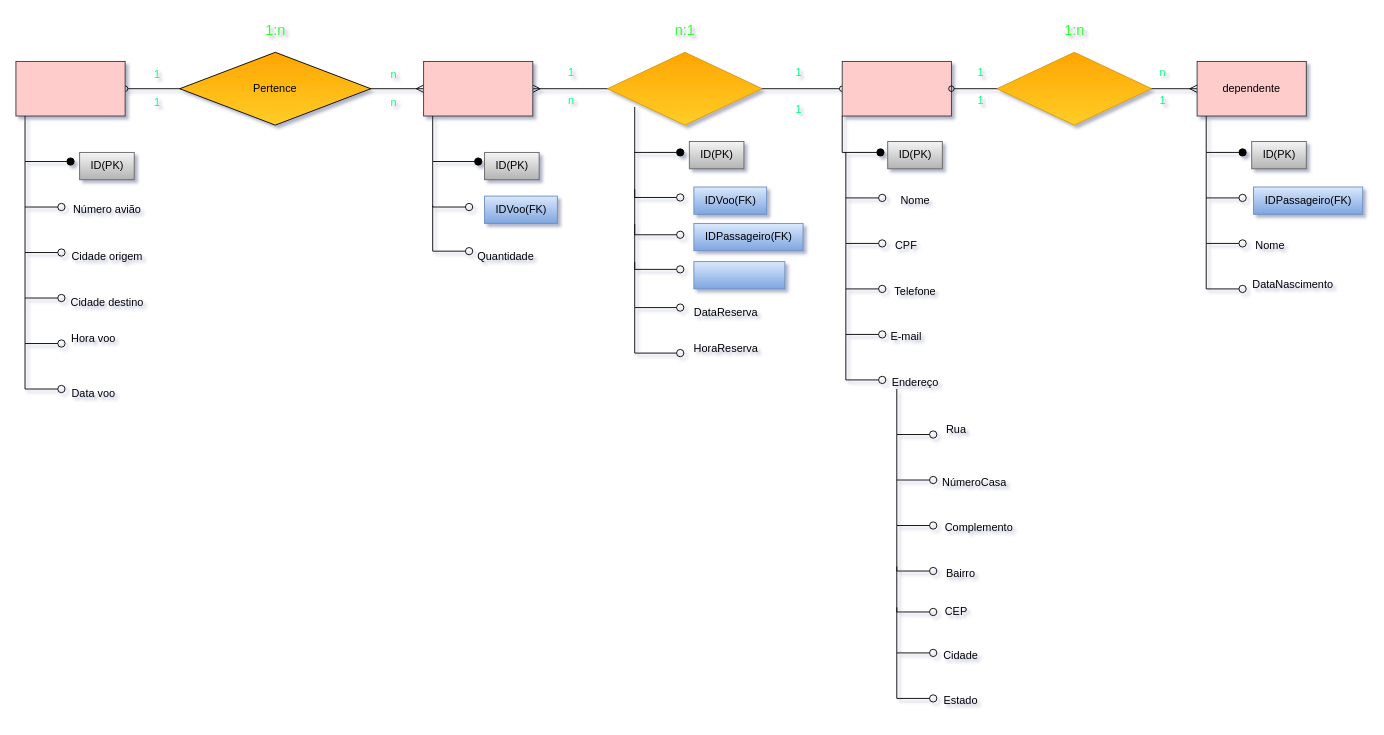
Image size: 1384x735. Some labels were removed from this diagram. Here are the shapes that lost their labels. From the top down, the centre of each, then its label:
(x=70, y=88): Voo
(x=478, y=88): assento
(x=684, y=88): Reserva
(x=896, y=88): passageiro
(x=1074, y=88): Possui
(x=739, y=275): IDAssento(FK)
